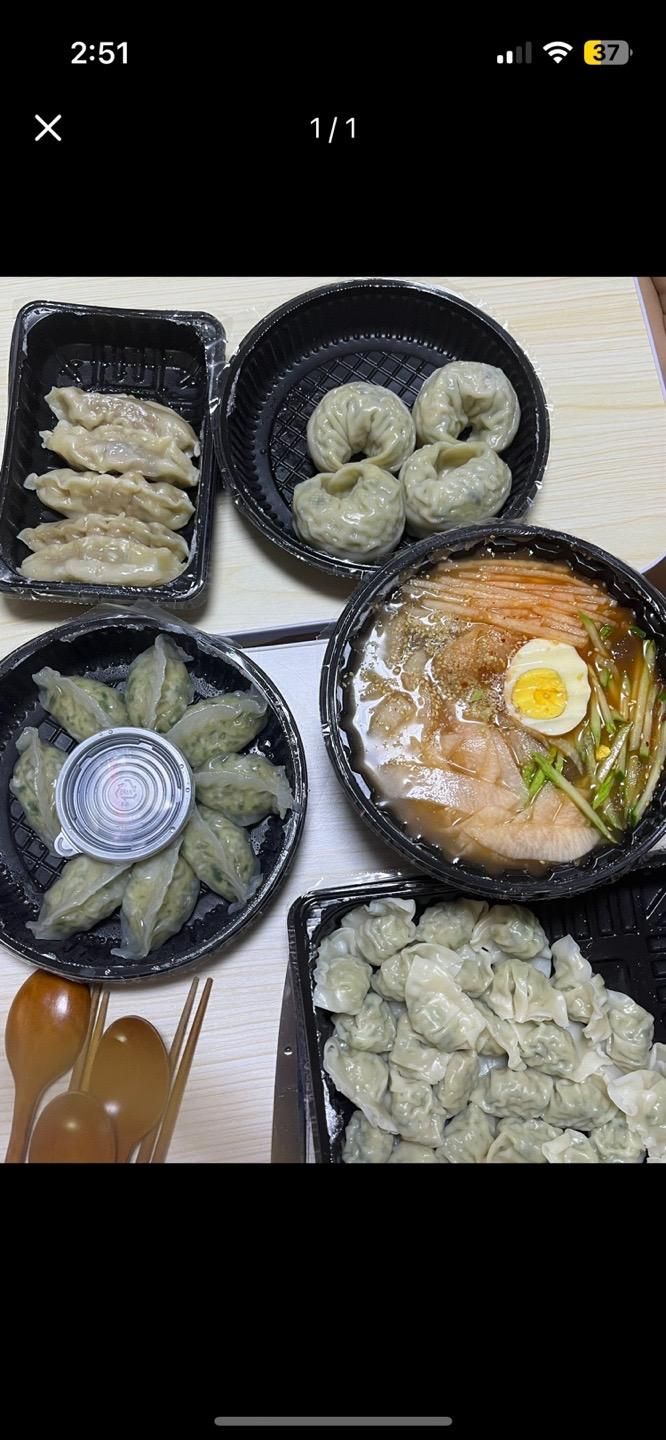Lunch Box: (320, 524, 665, 902), (288, 854, 665, 1163), (0, 605, 306, 980), (215, 280, 549, 577), (0, 302, 224, 605)
